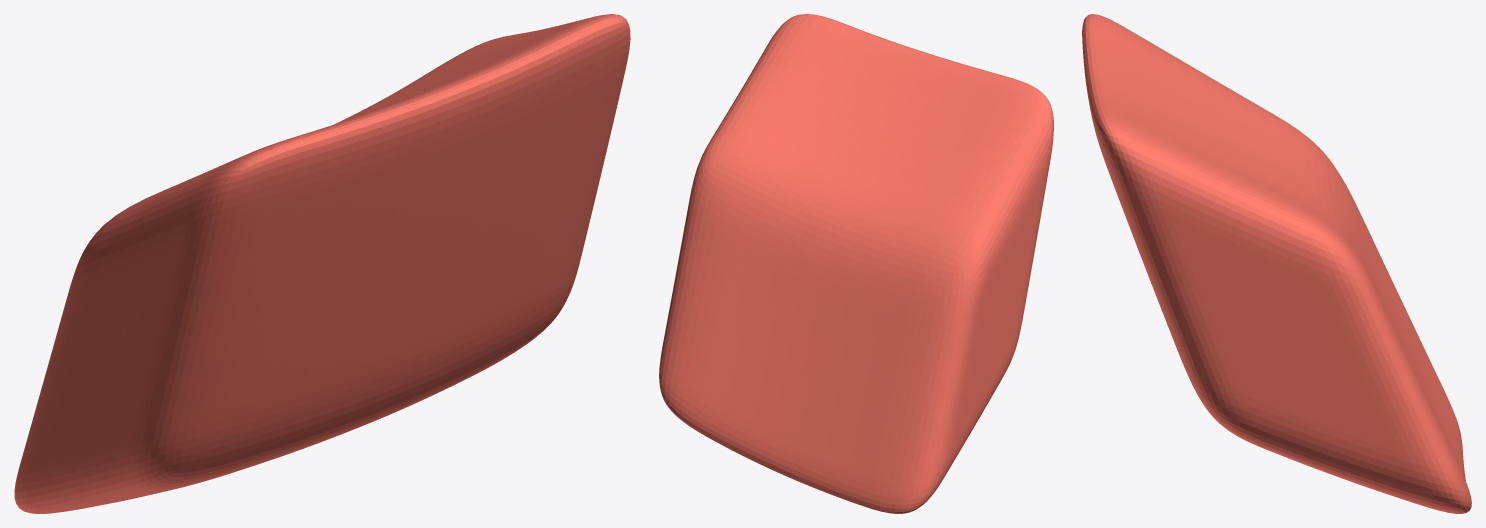
3 views of the same model, side by side, from view 1: azimuth 30°, elevation 25°; view 2: azimuth 150°, elevation 25°; view 3: azimuth 270°, elevation 25° (orthographic). The views are drawn at different scales.
Parts seen in each view (by area): view 1: waves_1.031; view 2: waves_1.031; view 3: waves_1.031.
Part boxes in pixels (x1,y1,x2,y2): waves_1.031: (14, 14, 630, 513); waves_1.031: (659, 14, 1053, 513); waves_1.031: (1082, 14, 1471, 513).
Size of the model in its own units: 30.13 by 36.24 by 27.98.
